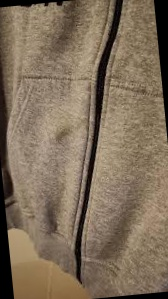oil: (49, 128, 70, 149)
